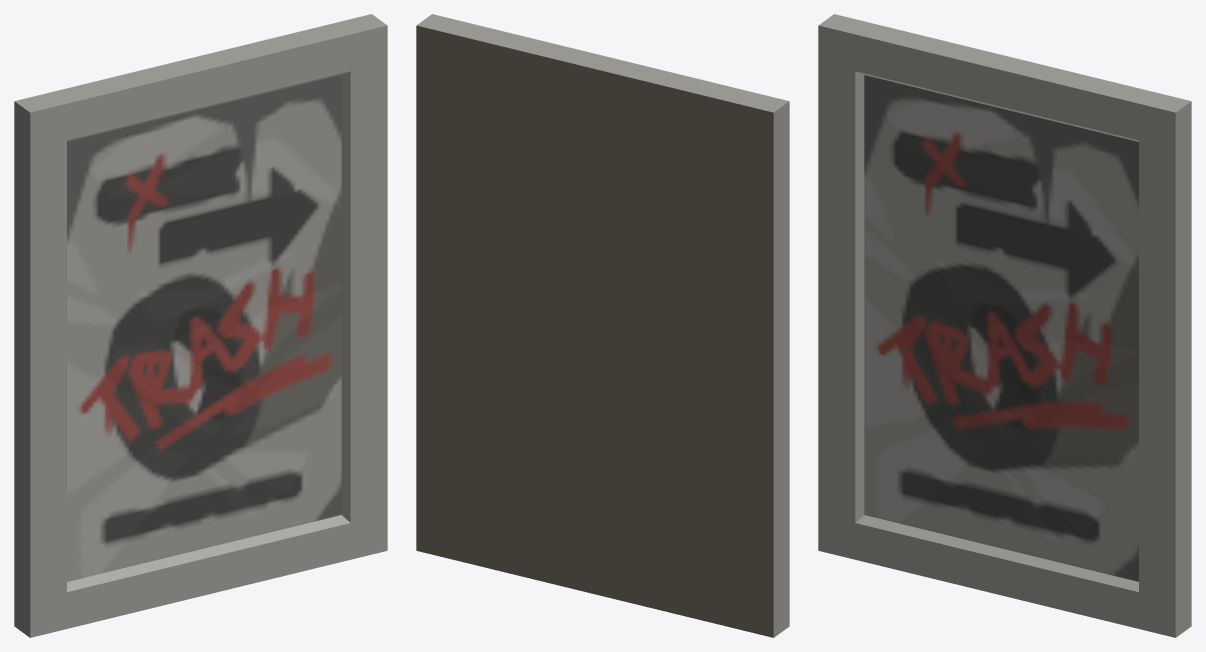
File: SM_Prop_Sign_Poster_21.fbx
3 views of the same model, side by side, from view 1: azimuth 30°, elevation 25°; view 2: azimuth 150°, elevation 25°; view 3: azimuth 330°, elevation 25° (orthographic).
Parts seen in each view (by area): view 1: SM_Prop_Sign_Poster_21; view 2: SM_Prop_Sign_Poster_21; view 3: SM_Prop_Sign_Poster_21.
Boxes of the visible parts, bbox=[...] form: SM_Prop_Sign_Poster_21: bbox=[14, 14, 387, 637]; SM_Prop_Sign_Poster_21: bbox=[416, 14, 789, 637]; SM_Prop_Sign_Poster_21: bbox=[818, 14, 1191, 637].
Size of the model in its own units: 38.12 by 53.54 by 2.91.
